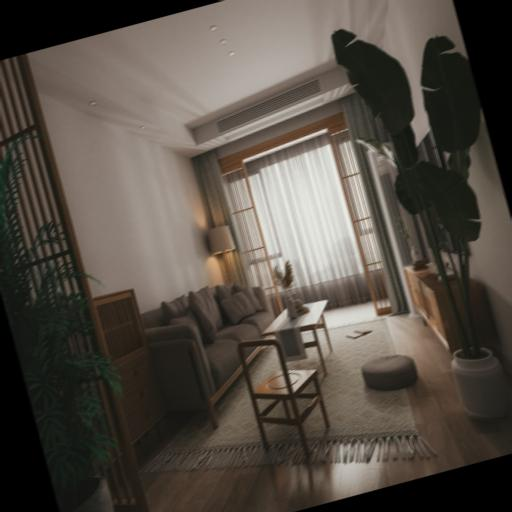chair: (236, 325, 336, 464)
desk: (256, 296, 346, 389)
sofa: (135, 272, 296, 438)
wall: (342, 0, 512, 462), (36, 58, 225, 326)
